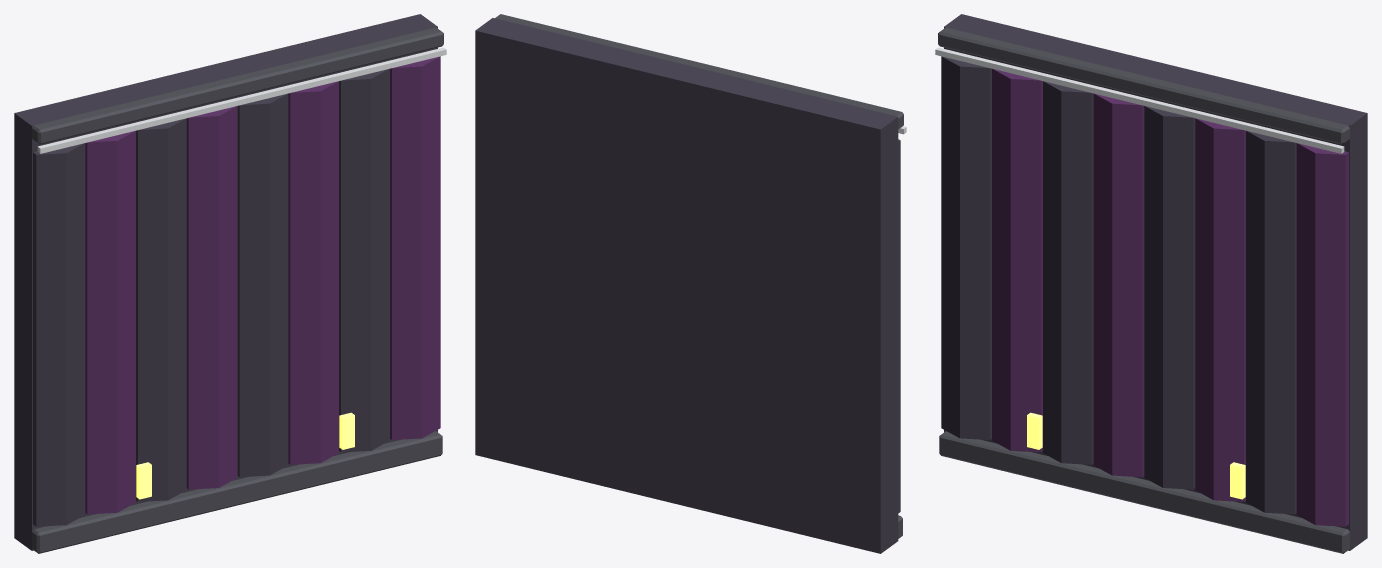
File: wall_mp_cinema.glb
3 renders of one model, left to right at view 1: azimuth 30°, elevation 25°; view 2: azimuth 150°, elevation 25°; view 3: azimuth 330°, elevation 25°, orthographic.
Visible parts, largest first — view 1: wall_mp_cinema; view 2: wall_mp_cinema; view 3: wall_mp_cinema.
Boxes of the visible parts, x1,y1,x2,y2 form: wall_mp_cinema: (14, 14, 446, 553); wall_mp_cinema: (475, 14, 906, 553); wall_mp_cinema: (935, 14, 1367, 553).
Size of the model in its own units: 4 by 4 by 0.51.
